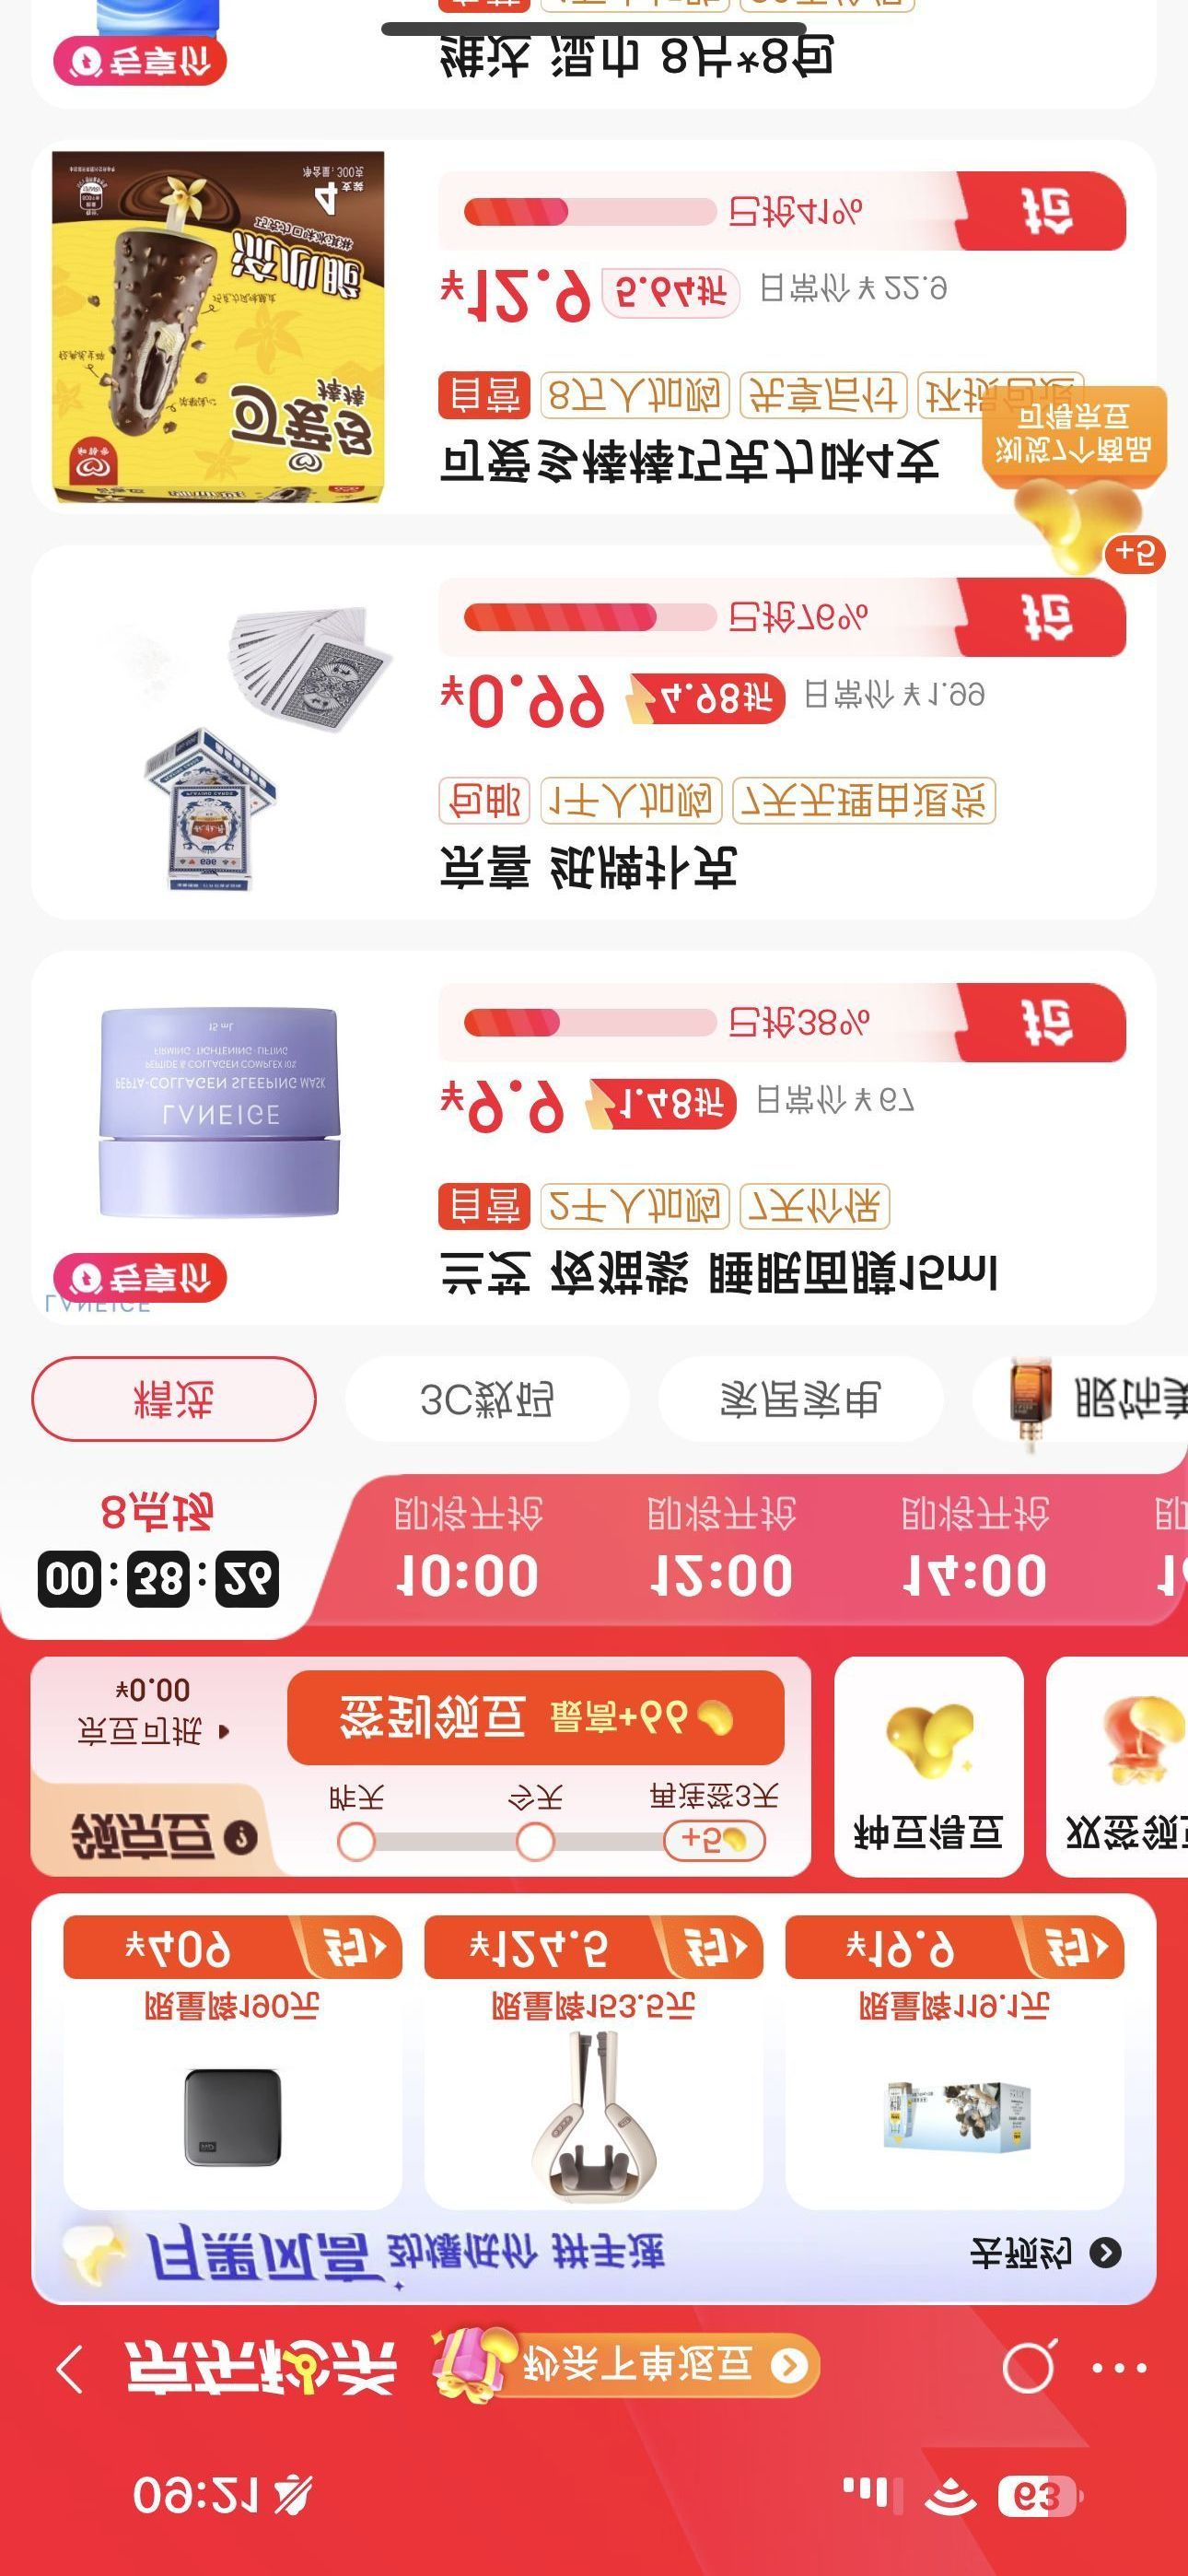item: (20, 923, 1185, 1347), (5, 517, 1188, 927), (5, 120, 1188, 522)
op_bar: (3, 2307, 1186, 2438)
seckill: (5, 1646, 1188, 2298)
